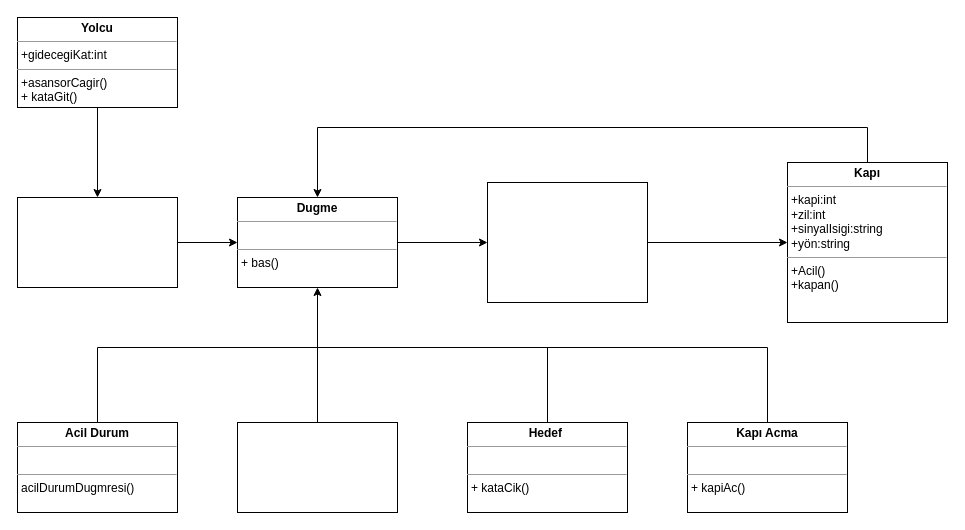
Image size: 965x530. Some labels were removed from this diagram. Each missing label, with the box of its shape:
Asansör - id: int +kapasite:int=6 +kapı:string +kat:int: (486, 182, 648, 302)
Kapi Kapatma + kapiKapat(): (236, 422, 398, 512)
Kontrol Paneli + dugme(): (16, 196, 178, 288)
